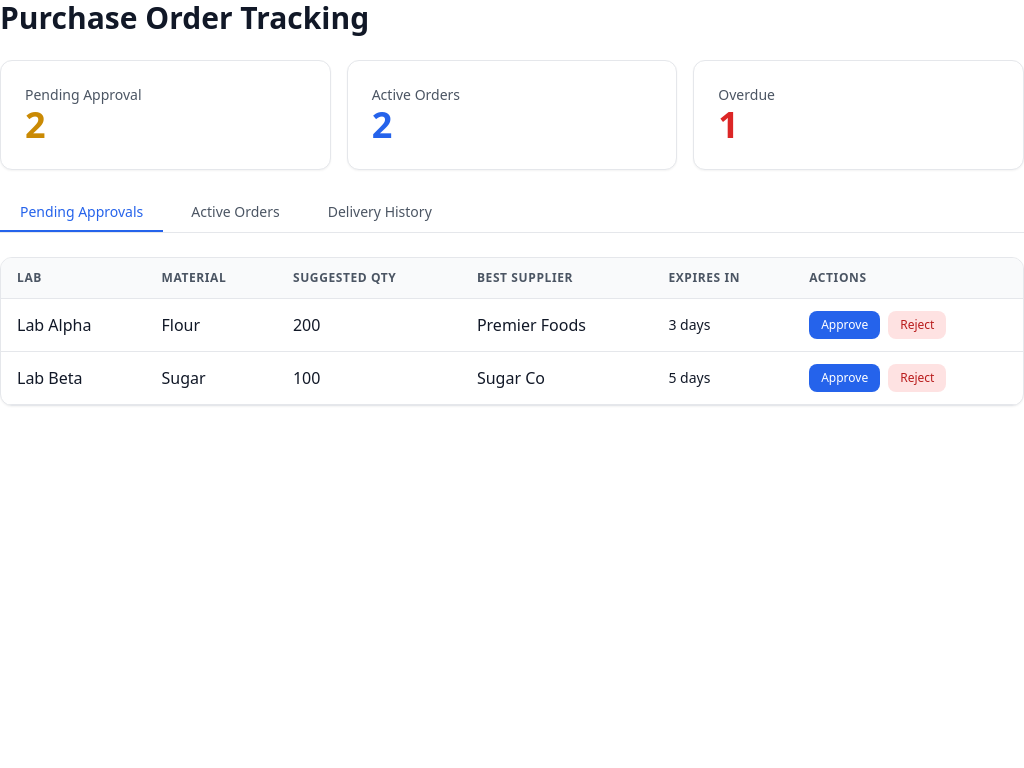
Test: POTrackingPage — 3-tab architecture › opens reject modal when Reject button is clicked
Step 1. Click the button "Reject" in the row of "Lab Alpha" → (917, 325), box [888,311,946,339]
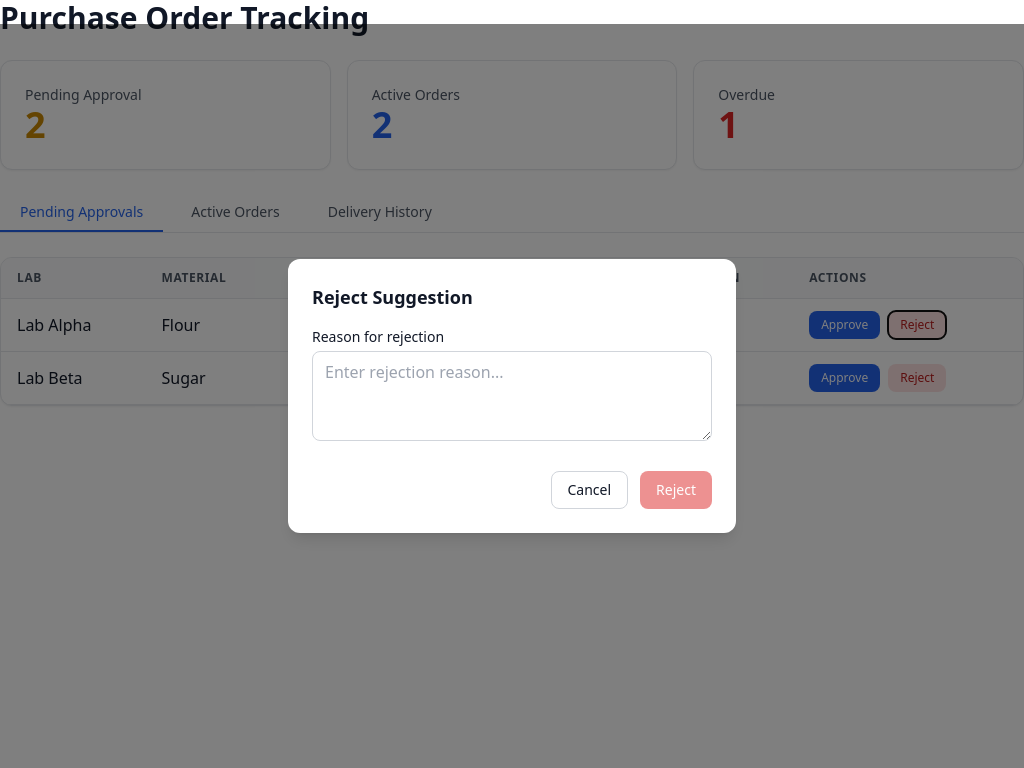
Expected: the dialog "Reject Suggestion Reason for rejection Cancel Reject" is shown
Expected: the text box labelled "Reason for rejection" is shown, [312,351,712,441]
